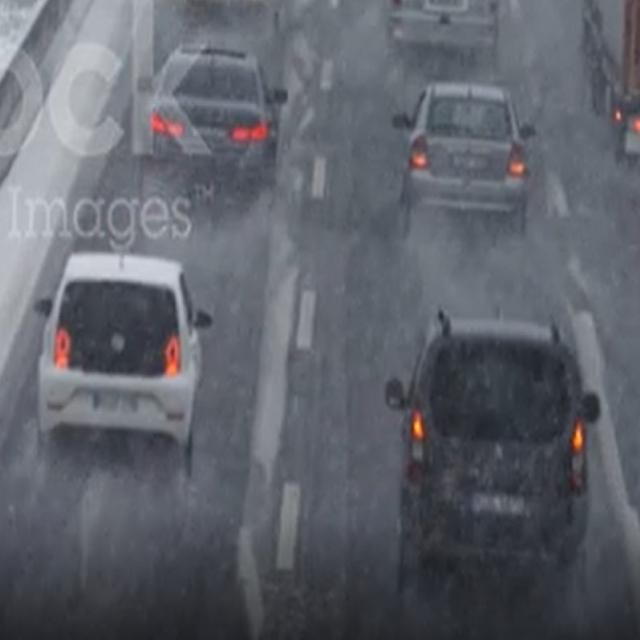car: (390, 284, 593, 603), (38, 249, 204, 476), (399, 75, 536, 244), (143, 43, 288, 186)
